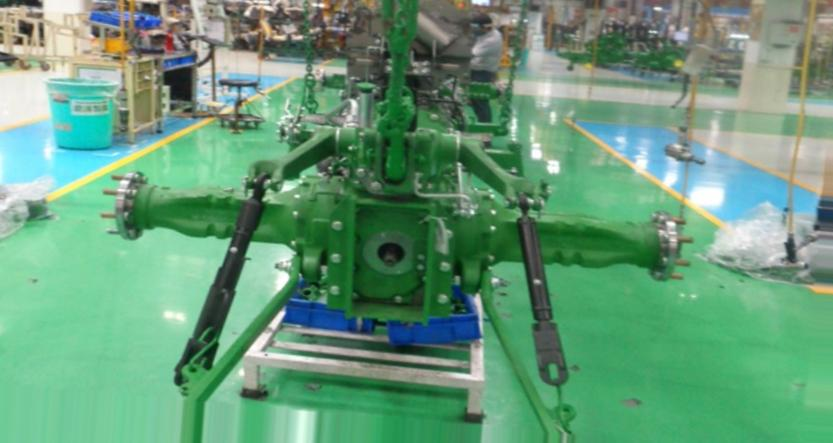engine: (100, 0, 694, 339)
